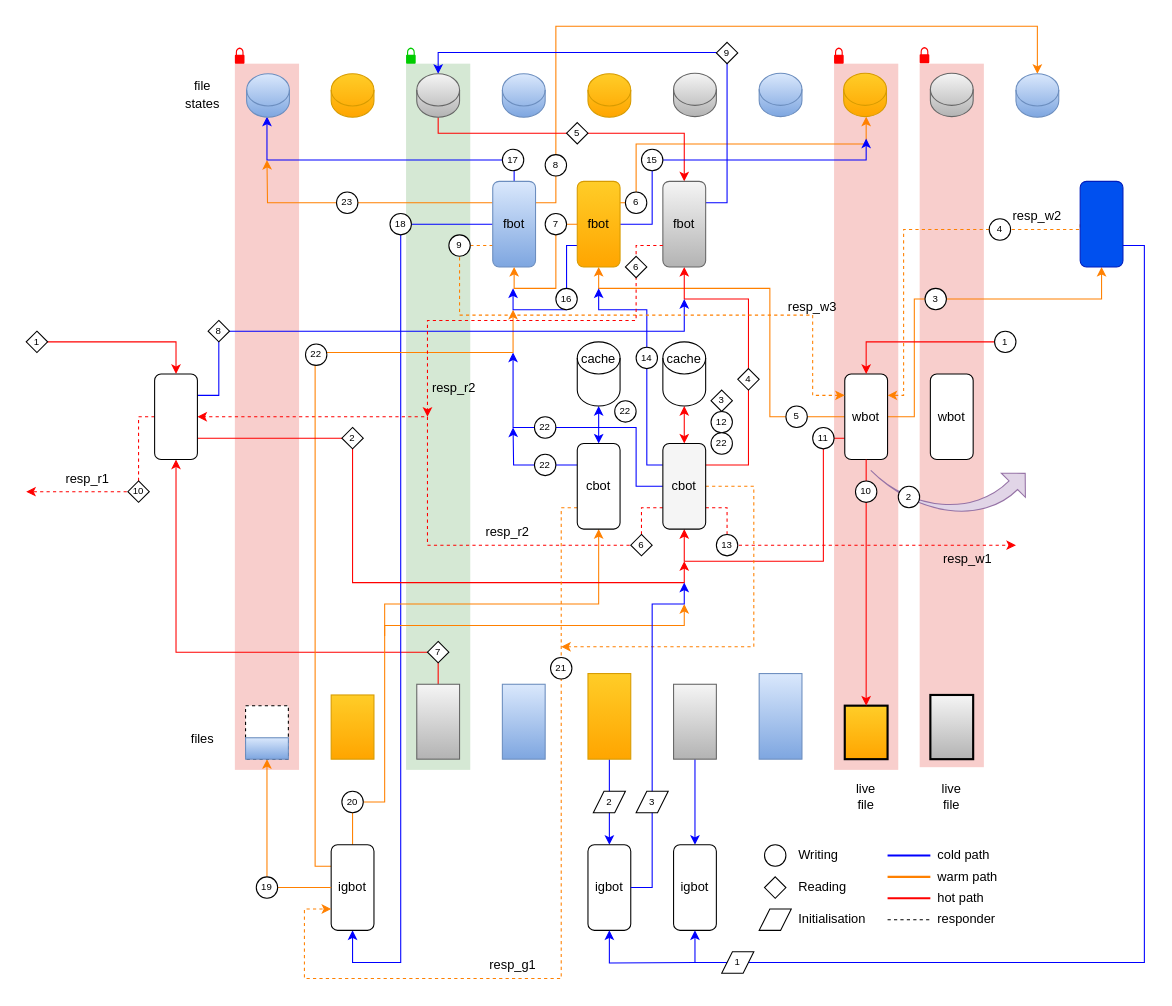
Some shapes in this 1172 by 1006 pixel diagram are drawn without their labels. Each missing label, with the box of its shape:
rbot: (154, 373, 197, 460)
zbot: (1079, 180, 1123, 267)
